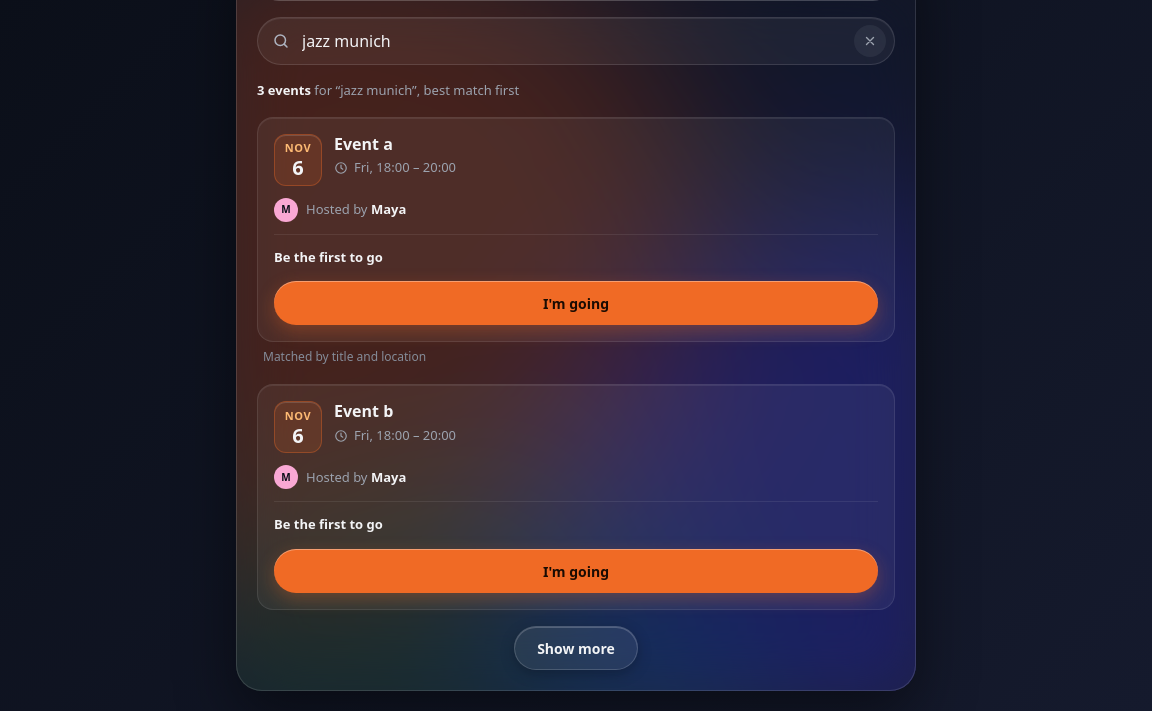
shows results as feed cards with why they matched, and loads more on demand
The width and height of the screenshot is (1152, 711).
(page scrolled)
expect the button "Event a" is shown: met, box [334,134,393,154]
expect the message reads "3 events for “jazz munich”, best match first": met, box [257,81,519,99]
Click the button "Show more": (576, 648) [514,626,638,670]
(page scrolled)
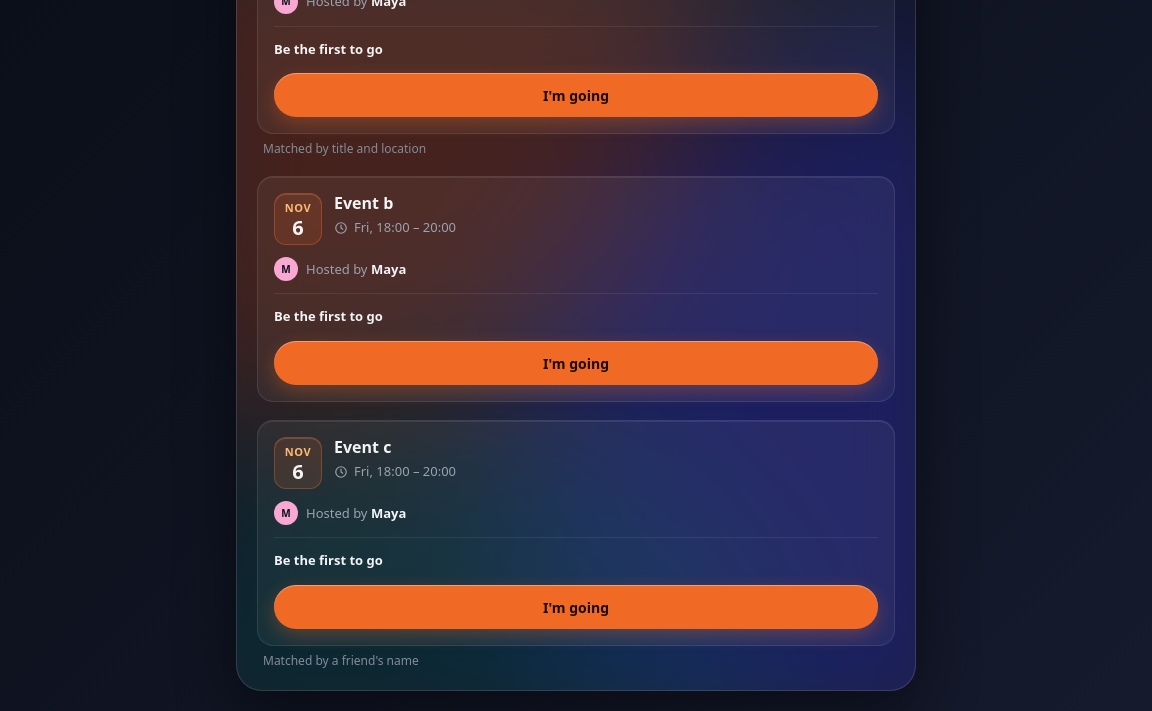
expect the button "Event c" is shown: met, box [334,437,391,458]
expect the text "Matched by a friend's name" is shown: met, box [263,652,419,669]
expect the button "Show more" is gone: met
